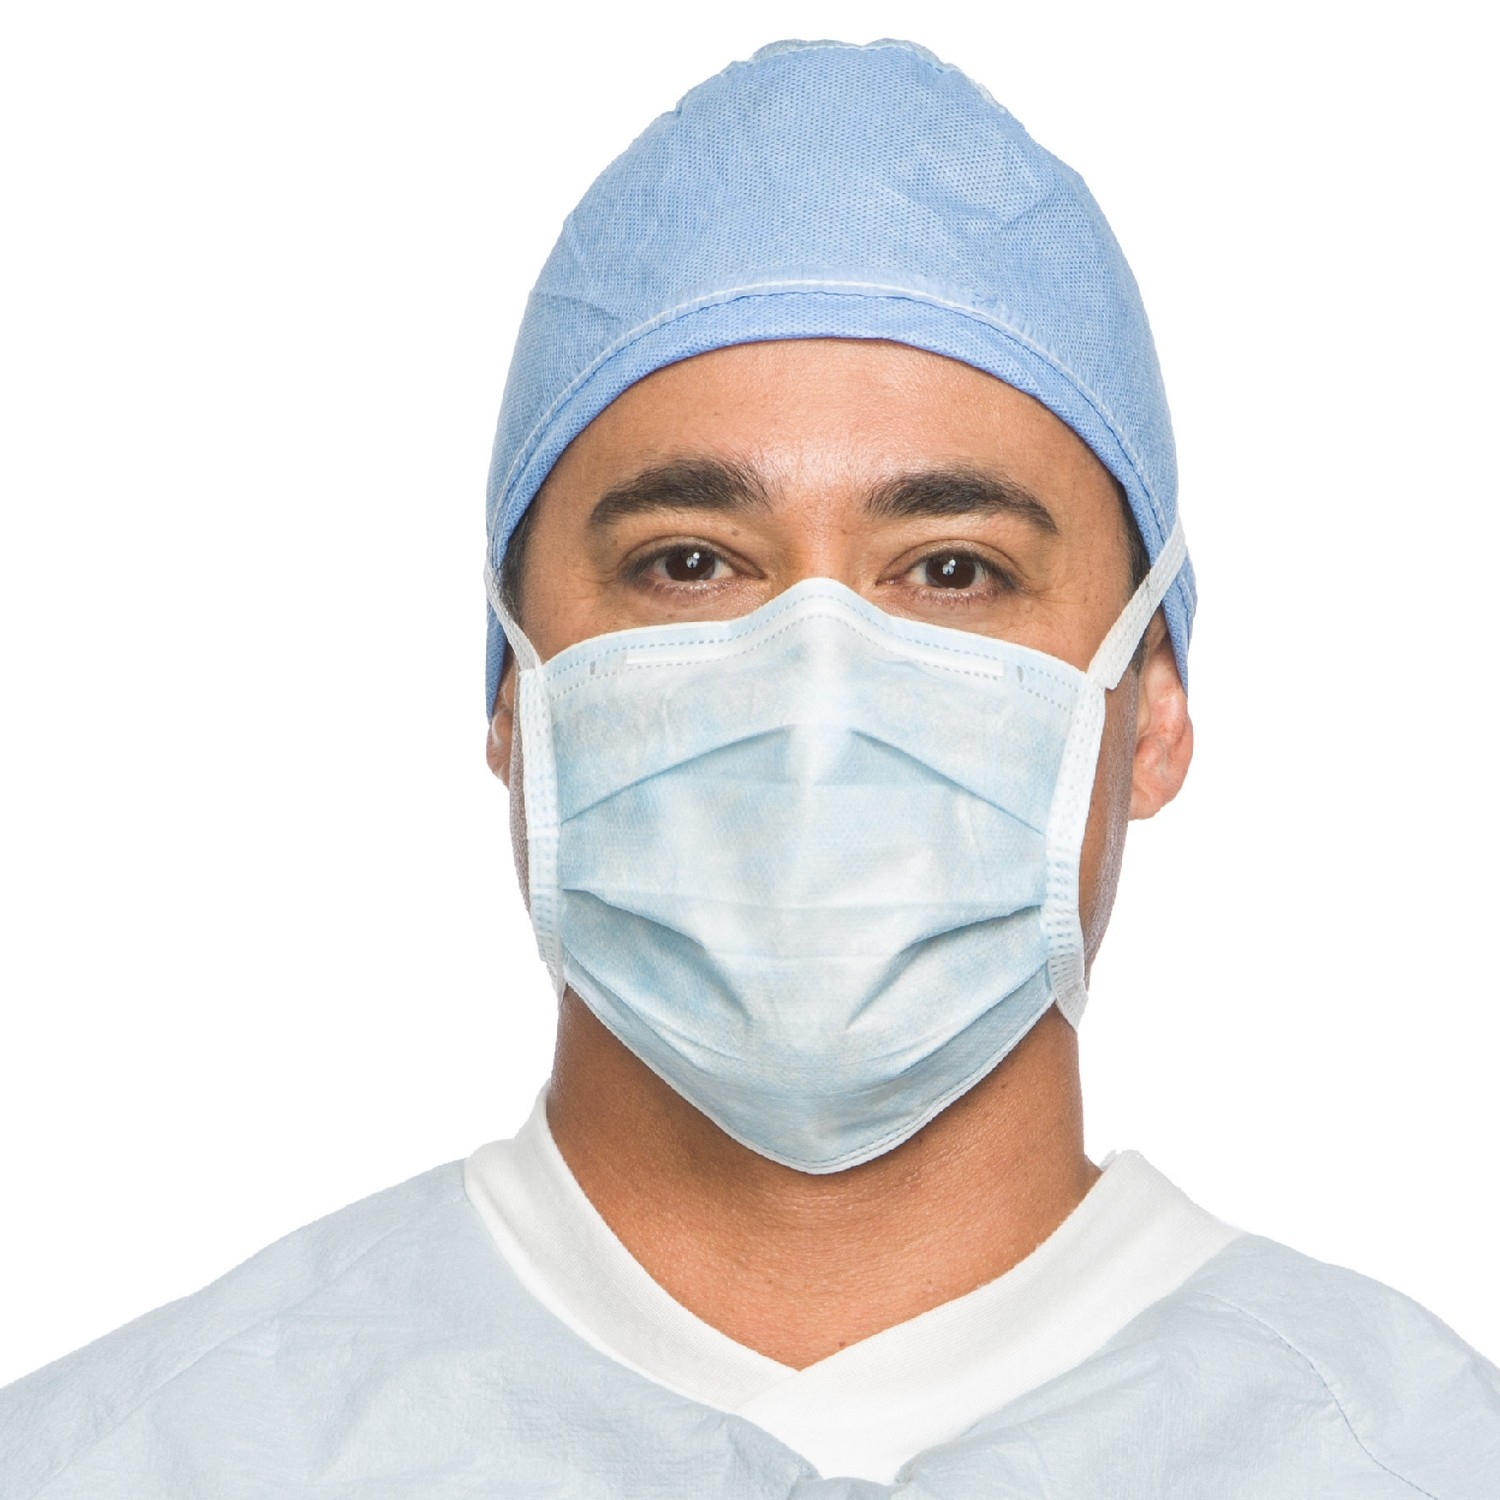mask: (519, 604, 1154, 1063)
